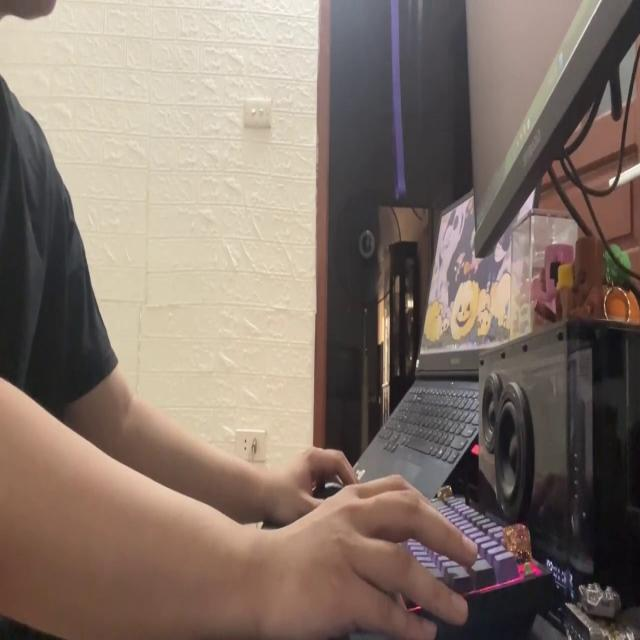laptop: (337, 167, 541, 512), (461, 0, 640, 254)
student: (0, 1, 477, 640)
